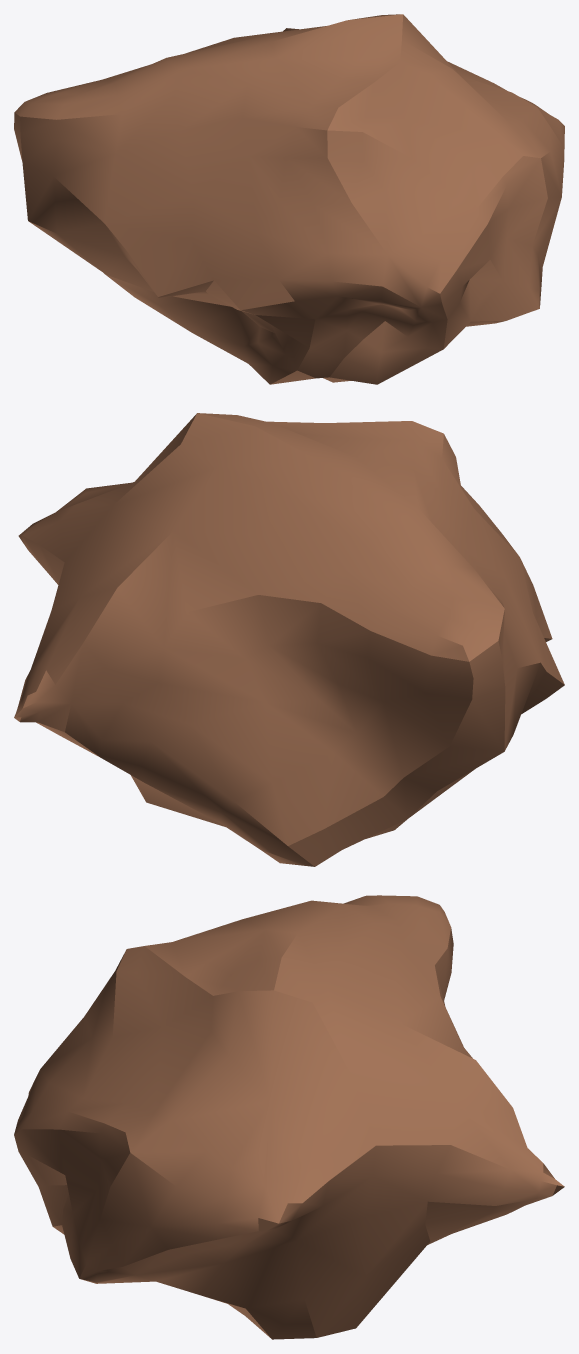
The model's file is rock_big_6.fbx.
The picture shows the model from 3 angles, top to bottom: view 1: azimuth 30°, elevation 25°; view 2: azimuth 150°, elevation 25°; view 3: azimuth 270°, elevation 25°; orthographic projection. The views are drawn at different scales.
Parts seen in each view (by area): view 1: Retopo_Rock generator addon.009; view 2: Retopo_Rock generator addon.009; view 3: Retopo_Rock generator addon.009.
Boxes of the visible parts, x1=… form: Retopo_Rock generator addon.009: x1=14, y1=14, x2=564, y2=384; Retopo_Rock generator addon.009: x1=14, y1=413, x2=564, y2=866; Retopo_Rock generator addon.009: x1=14, y1=895, x2=564, y2=1339.
Size of the model in its own units: 127 by 83.83 by 116.
